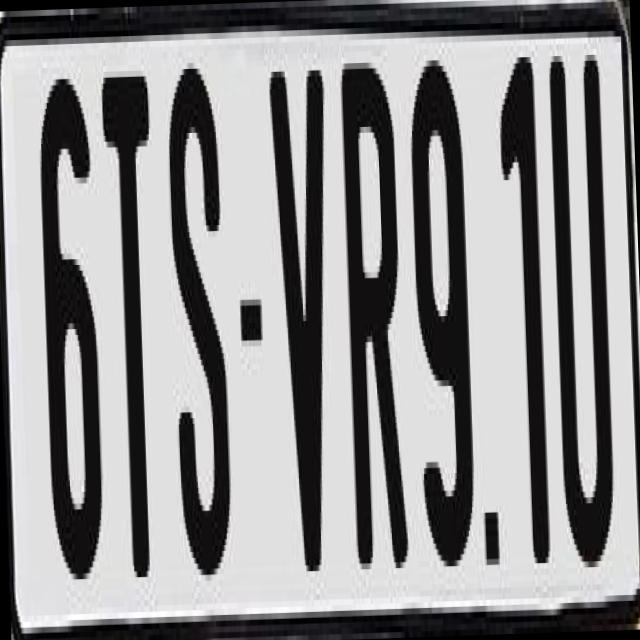1: (496, 51, 552, 576)
6: (36, 66, 112, 568)
9: (406, 47, 484, 578)
R: (335, 55, 410, 575)
S: (163, 68, 232, 575)
T: (99, 64, 168, 589)
U: (544, 49, 612, 562)
V: (266, 58, 342, 572)
